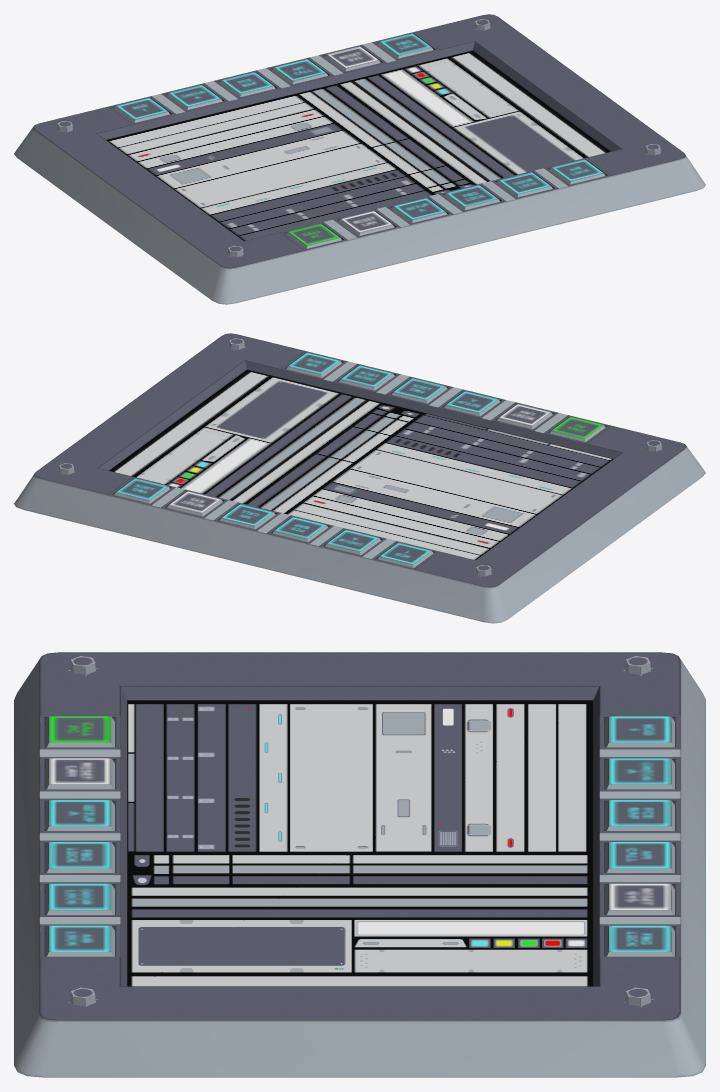
The model's file is Panel_Screen_02.FBX.
The picture shows the model from 3 angles, top to bottom: view 1: azimuth 30°, elevation 25°; view 2: azimuth 150°, elevation 25°; view 3: azimuth 270°, elevation 25°; orthographic projection. The views are drawn at different scales.
Visible parts, largest first — view 1: Panel_Screen_02, Screen, Button_03, Button_05, Button_04, Button_06, Button_01, Button_07, Button_02, Button_11, Button_08, Button_12 (+2 smaller); view 2: Panel_Screen_02, Screen, Button_09, Button_10, Button_01, Button_08, Button_03, Button_12, Button_05, Button_06, Button_11, Button_02 (+2 smaller); view 3: Panel_Screen_02, Screen, Button_02, Button_08, Button_07, Button_01, Button_06, Button_12, Button_05, Button_11, Button_10, Button_03 (+2 smaller).
Boxes of the visible parts, box(x1,y1,x2,y2) form: Panel_Screen_02: box(14, 14, 705, 304); Screen: box(106, 50, 610, 240); Button_03: box(219, 72, 275, 97); Button_05: box(325, 46, 380, 71); Button_04: box(272, 59, 327, 84); Button_06: box(378, 33, 433, 58); Button_01: box(114, 98, 169, 122); Button_07: box(286, 223, 341, 248); Button_02: box(167, 85, 222, 109); Button_11: box(497, 172, 552, 197); Button_08: box(339, 211, 394, 235); Button_12: box(550, 159, 605, 184); Panel_Screen_02: box(14, 333, 705, 623); Screen: box(109, 369, 613, 559); Button_09: box(444, 391, 500, 416); Button_10: box(392, 378, 447, 403); Button_01: box(378, 542, 433, 567); Button_08: box(497, 404, 552, 429); Button_03: box(272, 517, 328, 542); Button_12: box(286, 352, 341, 377); Button_05: box(167, 491, 222, 516); Button_06: box(114, 478, 169, 503); Button_11: box(339, 365, 394, 390); Button_02: box(325, 530, 380, 554); Panel_Screen_02: box(14, 652, 705, 1077); Screen: box(127, 700, 592, 986); Button_02: box(605, 758, 674, 789); Button_08: box(45, 758, 114, 789); Button_07: box(45, 716, 114, 747); Button_01: box(605, 716, 674, 747); Button_06: box(605, 925, 674, 956); Button_12: box(45, 925, 114, 956); Button_05: box(605, 883, 674, 914); Button_11: box(45, 883, 114, 914); Button_10: box(45, 842, 114, 872); Button_03: box(605, 800, 674, 830).
Bounding box in the file's own units: 2 × 0.1314 × 1.5.
2 materials, 2 textured.
